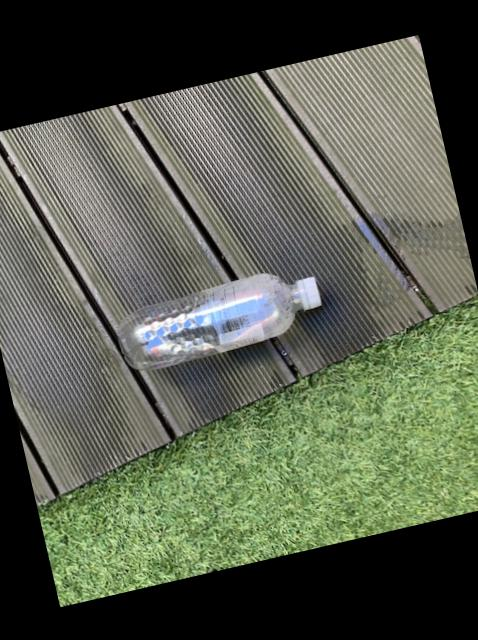plastic: (116, 272, 319, 368)
